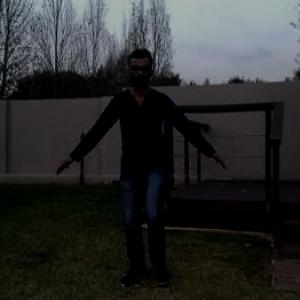land: (75, 56, 214, 297)
